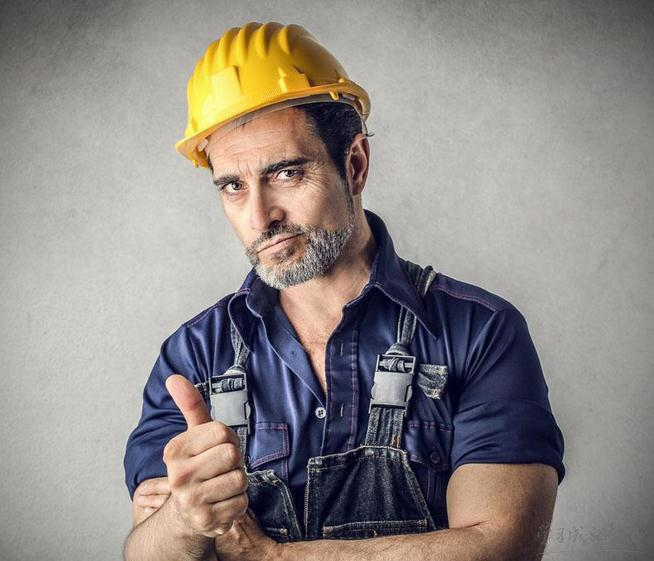helmet: (169, 21, 391, 296)
